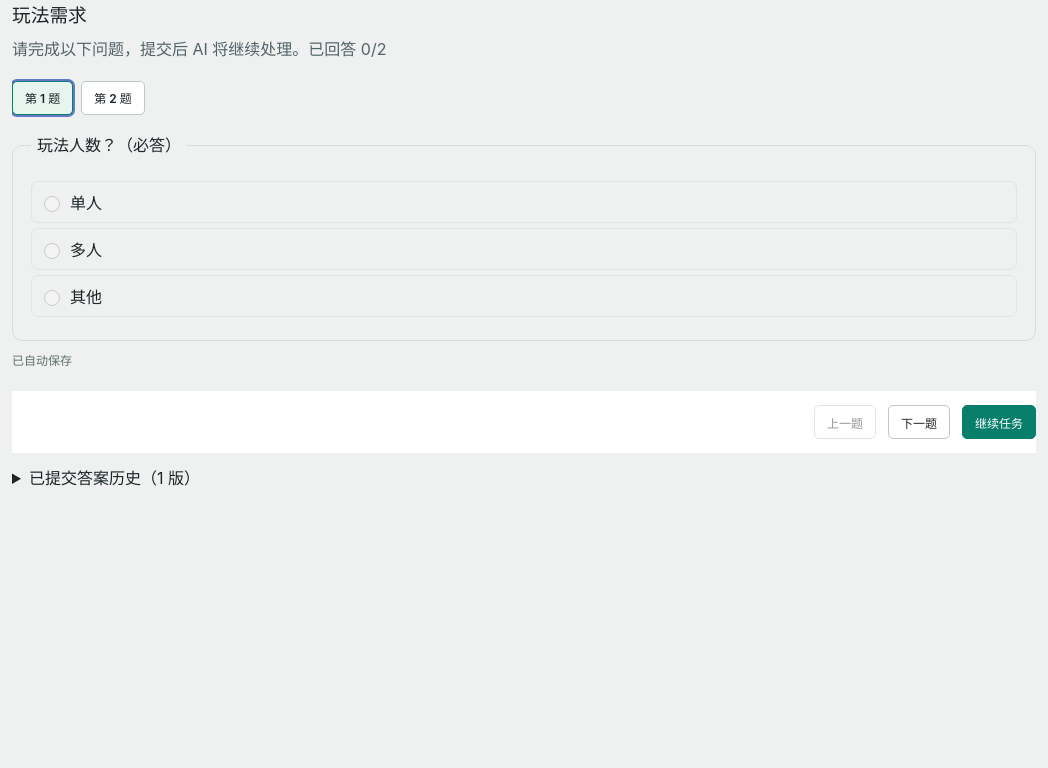
Scenario: never retries sending when terminal connection fails
Click the button "继续任务" at point(999, 422), box [962,405,1036,439]
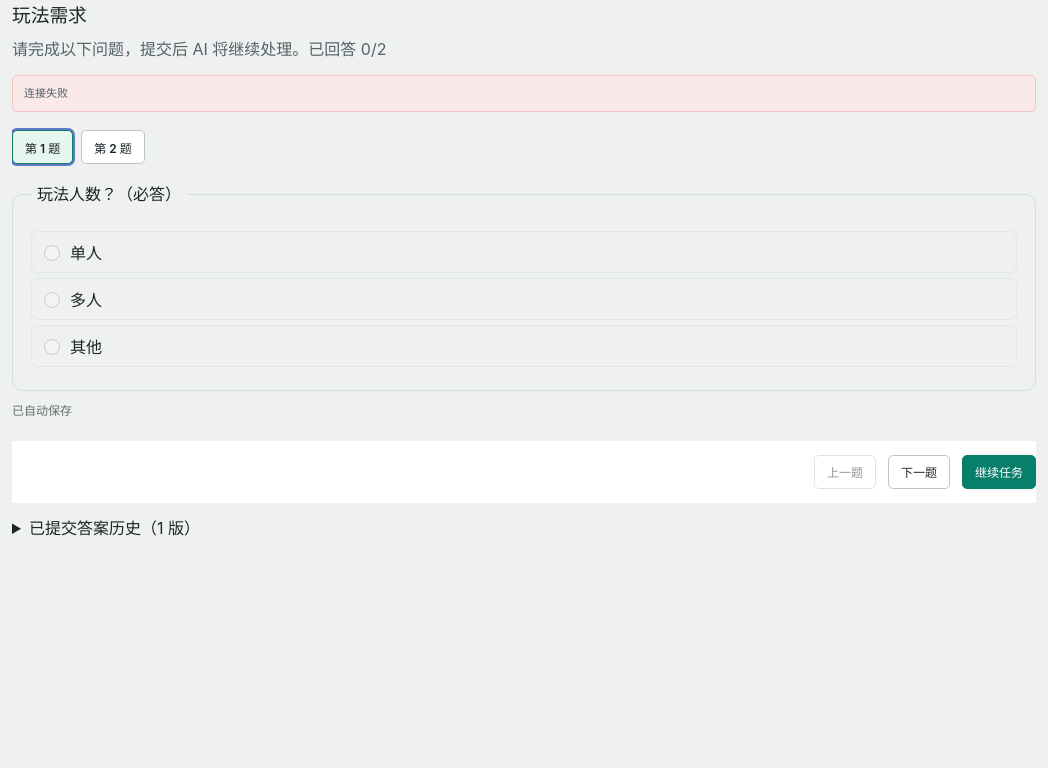
Check: the text "连接失败" is shown, box [12,75,1036,112]
